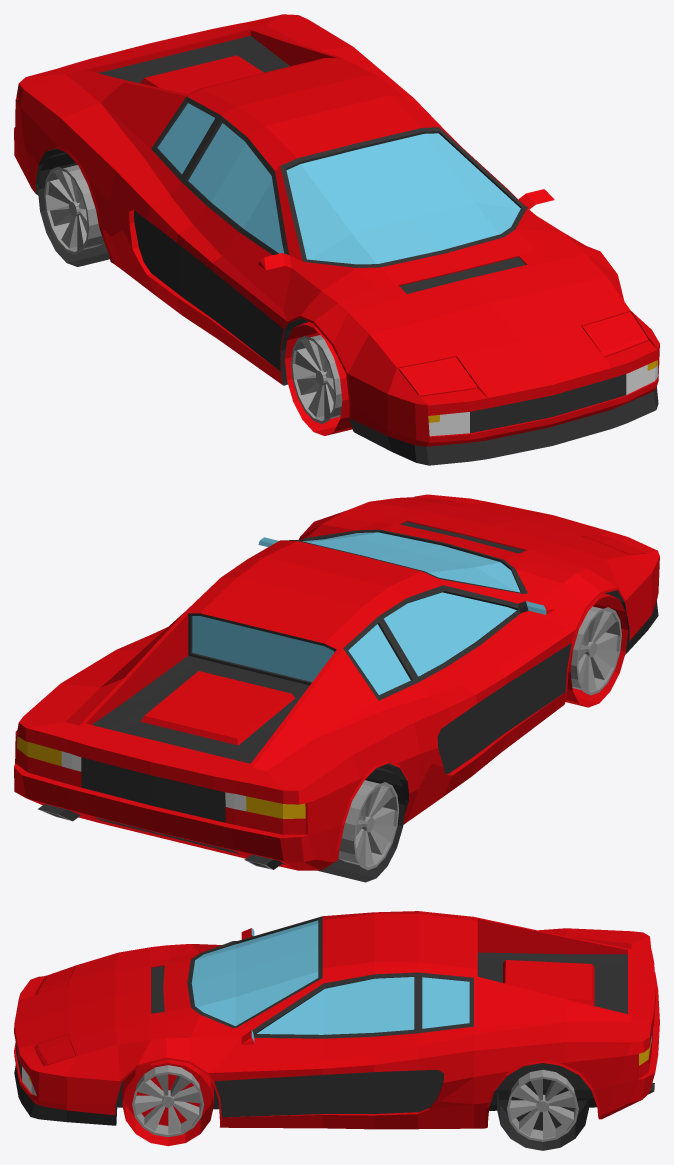
The model's file is uploads_files_2548921_testarossa.fbx.
3 views of the same model, one above another, from view 1: azimuth 30°, elevation 25°; view 2: azimuth 150°, elevation 25°; view 3: azimuth 270°, elevation 25° (orthographic). The views are drawn at different scales.
Parts seen in each view (by area): view 1: Cube, wheels; view 2: Cube, wheels; view 3: Cube, wheels.
Part boxes in pixels (x1,y1,x2,y2): Cube: (14,14,659,465); wheels: (38,152,342,423); Cube: (14,494,659,870); wheels: (317,606,621,882); Cube: (14,911,659,1146); wheels: (132,1065,588,1150).
Bounding box in the file's own units: 146 × 85.95 × 329.
